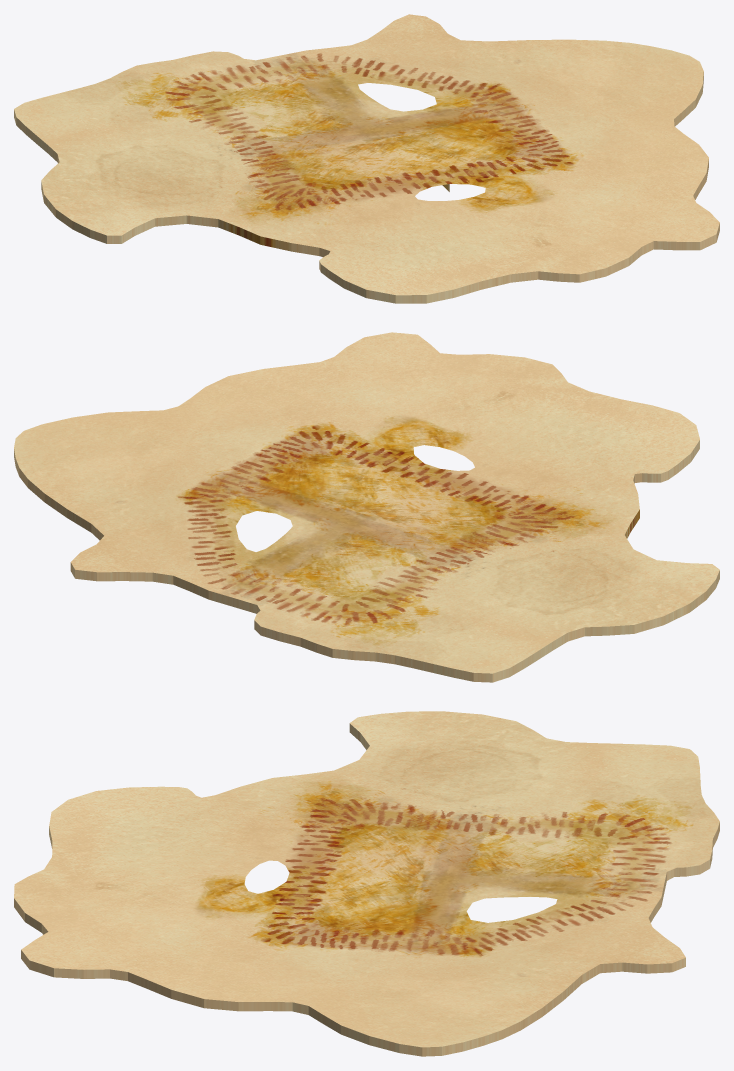
The model's file is suelo_solo.fbx.
3 renders of one model, top to bottom at view 1: azimuth 30°, elevation 25°; view 2: azimuth 150°, elevation 25°; view 3: azimuth 270°, elevation 25°, orthographic. The views are drawn at different scales.
Parts seen in each view (by area): view 1: Plane.001; view 2: Plane.001; view 3: Plane.001.
Part boxes in pixels (box(x1,y1,x2,y2)): Plane.001: box(14, 14, 719, 303); Plane.001: box(14, 332, 719, 682); Plane.001: box(14, 711, 719, 1056).
Size of the model in its own units: 2210 by 28.16 by 1962.
